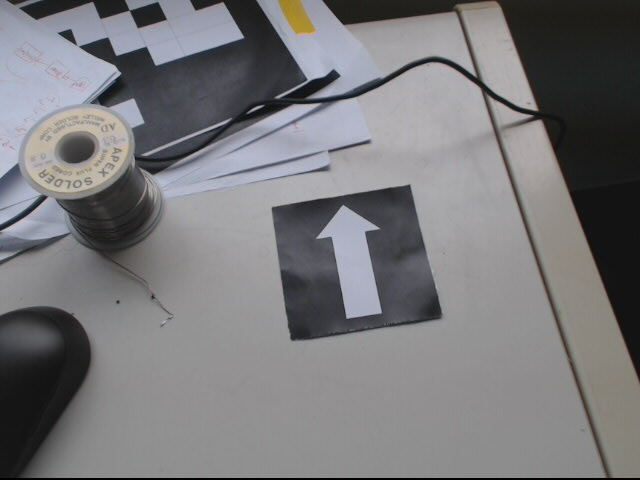straight: (271, 183, 442, 341)
